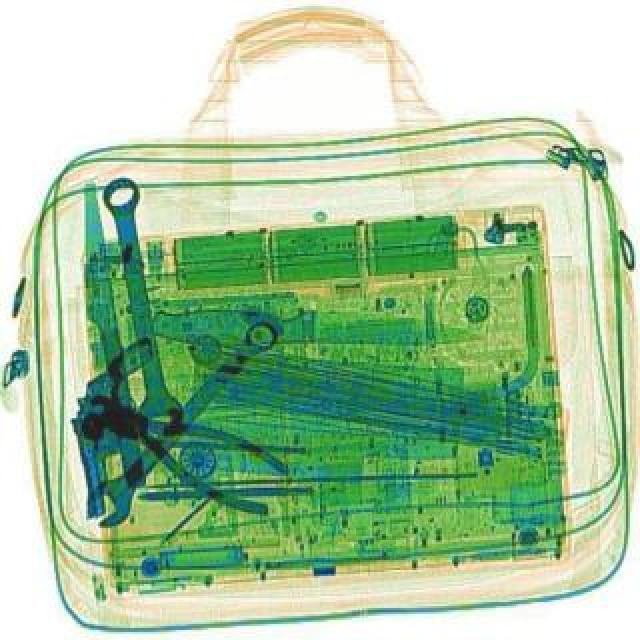gun: (60, 338, 186, 522)
knife: (68, 186, 146, 492), (152, 308, 488, 356)
scissors: (74, 314, 290, 540), (94, 178, 192, 446)
wrench: (86, 386, 298, 528)
